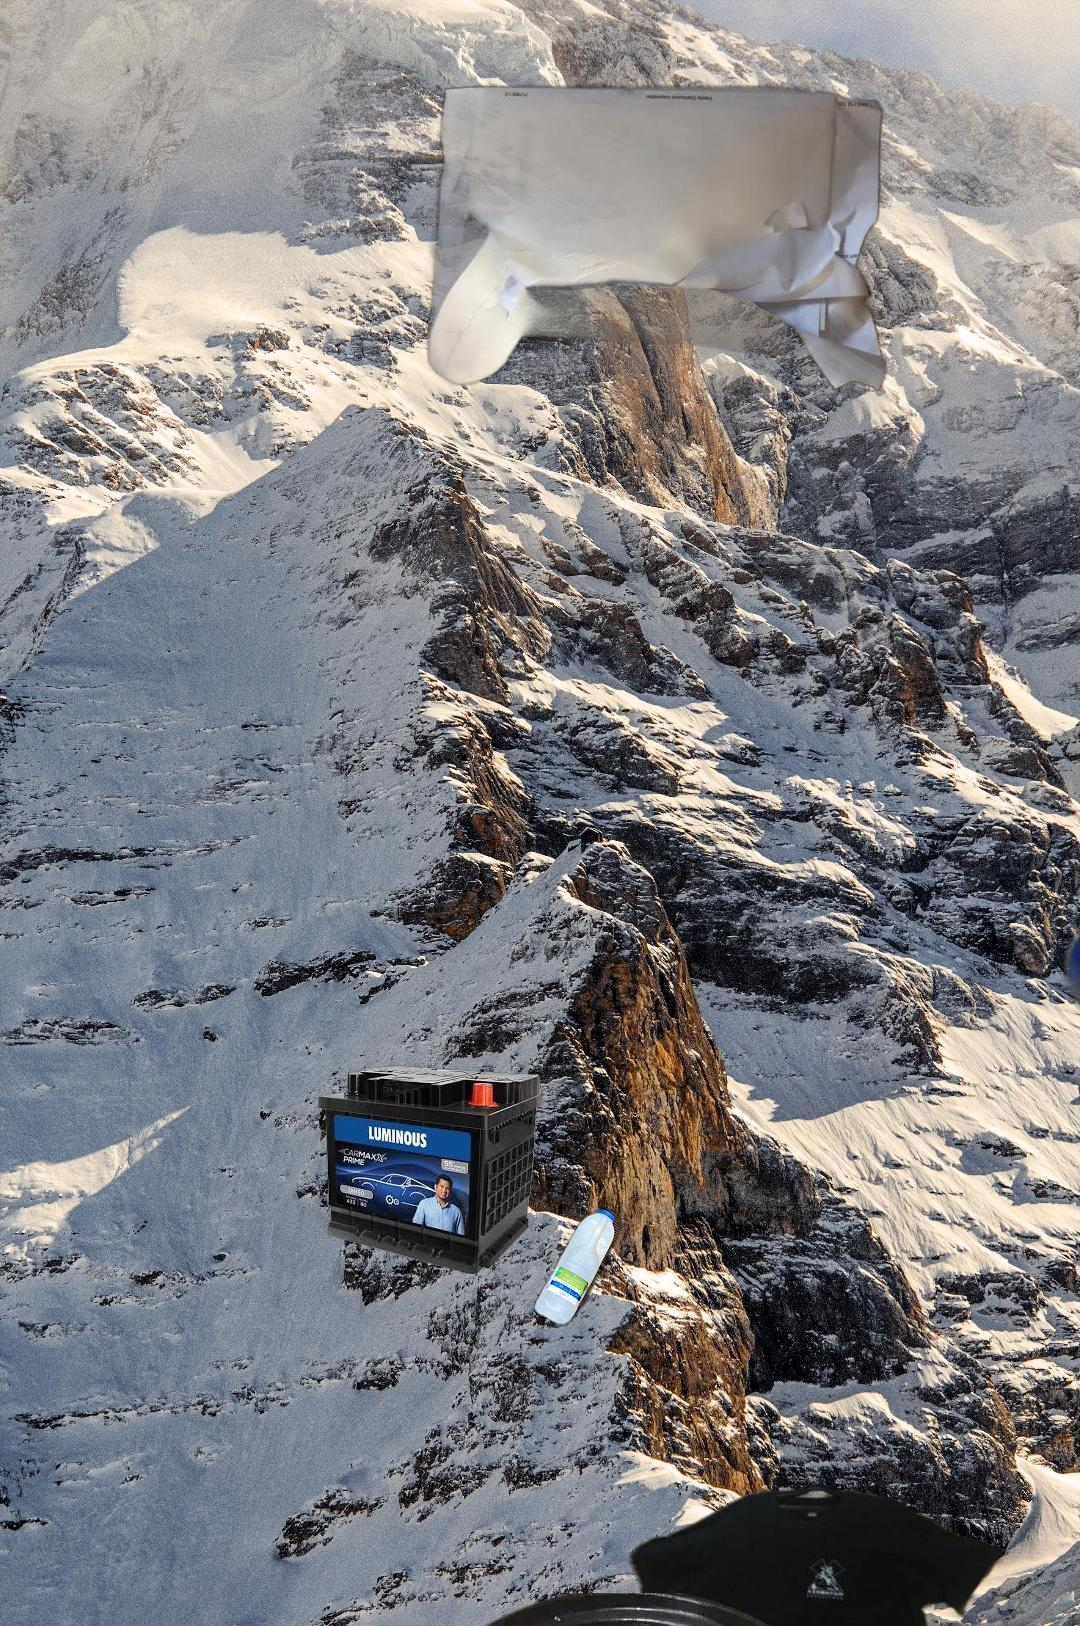battery: (317, 1063, 545, 1274)
biological: (369, 1593, 888, 1626)
clothes: (626, 1478, 1006, 1626)
paper: (386, 80, 896, 427)
penholder: (1047, 724, 1080, 1626)
plastic-bottles: (529, 1202, 624, 1331)
